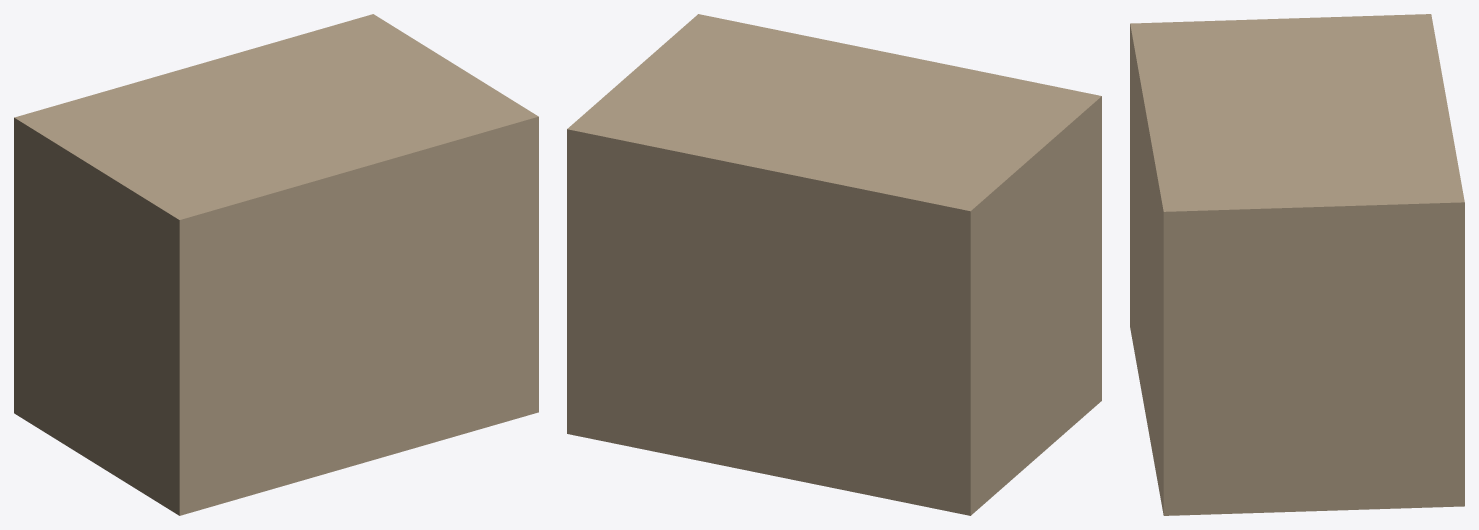
File: bld_101562175.dae
The picture shows the model from 3 angles, left to right: view 1: azimuth 30°, elevation 25°; view 2: azimuth 150°, elevation 25°; view 3: azimuth 270°, elevation 25°; orthographic projection. The views are drawn at different scales.
Parts seen in each view (by area): view 1: bld_101562175; view 2: bld_101562175; view 3: bld_101562175.
Part boxes in pixels (left/top/right/bottom): bld_101562175: left=14, top=14, right=538, bottom=515; bld_101562175: left=567, top=14, right=1101, bottom=515; bld_101562175: left=1130, top=14, right=1464, bottom=515.
Size of the model in its own units: 11.16 by 7.98 by 8.
